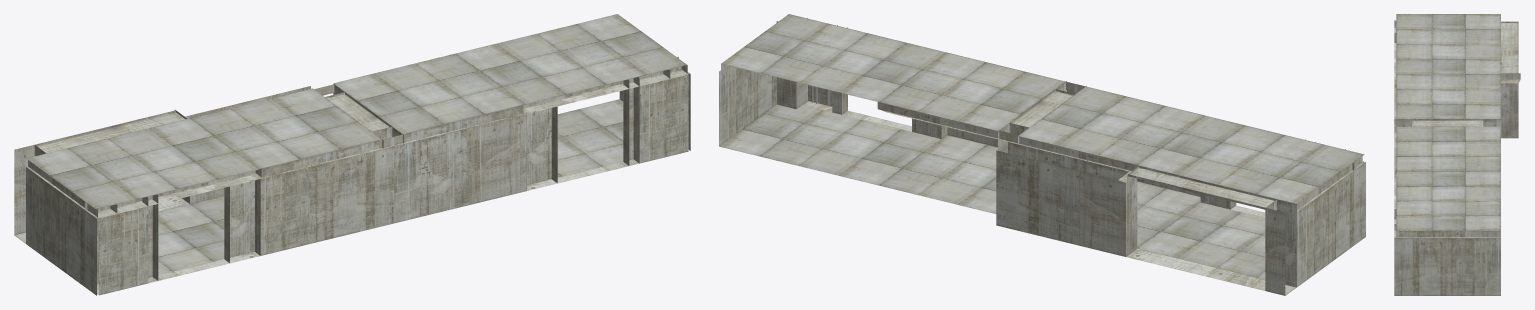
Rendered from Jails_Parts_Set_LE.fbx.
The picture shows the model from 3 angles, left to right: view 1: azimuth 30°, elevation 25°; view 2: azimuth 150°, elevation 25°; view 3: azimuth 270°, elevation 25°; orthographic projection. The views are drawn at different scales.
Visible parts, largest first — view 1: wall01 (×3), floor01; view 2: floor01, wall01 (×3); view 3: floor01, wall01 (×3).
Part boxes in pixels (x1,y1,x2,y2): wall01 (×3): [14, 57, 690, 295]; floor01: [26, 14, 686, 289]; floor01: [719, 14, 1364, 279]; wall01 (×3): [719, 18, 1365, 295]; floor01: [1396, 14, 1500, 230]; wall01 (×3): [1394, 20, 1520, 295].
Size of the model in its own units: 2900 by 400 by 710.
